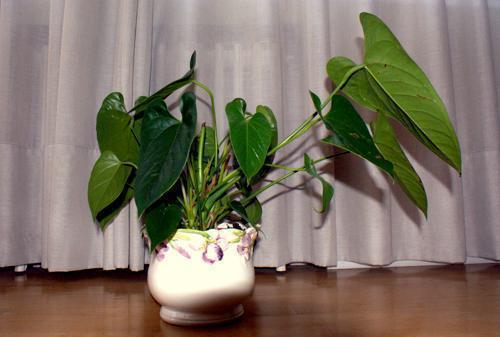Matera: (74, 19, 468, 317)
